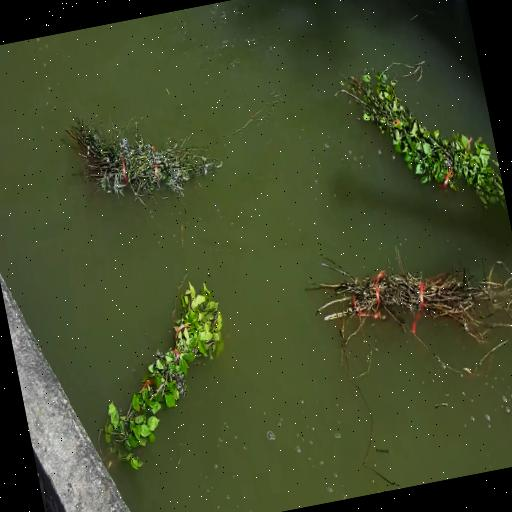twig: (78, 276, 246, 468), (342, 36, 505, 222), (308, 233, 502, 369), (68, 114, 223, 211)
